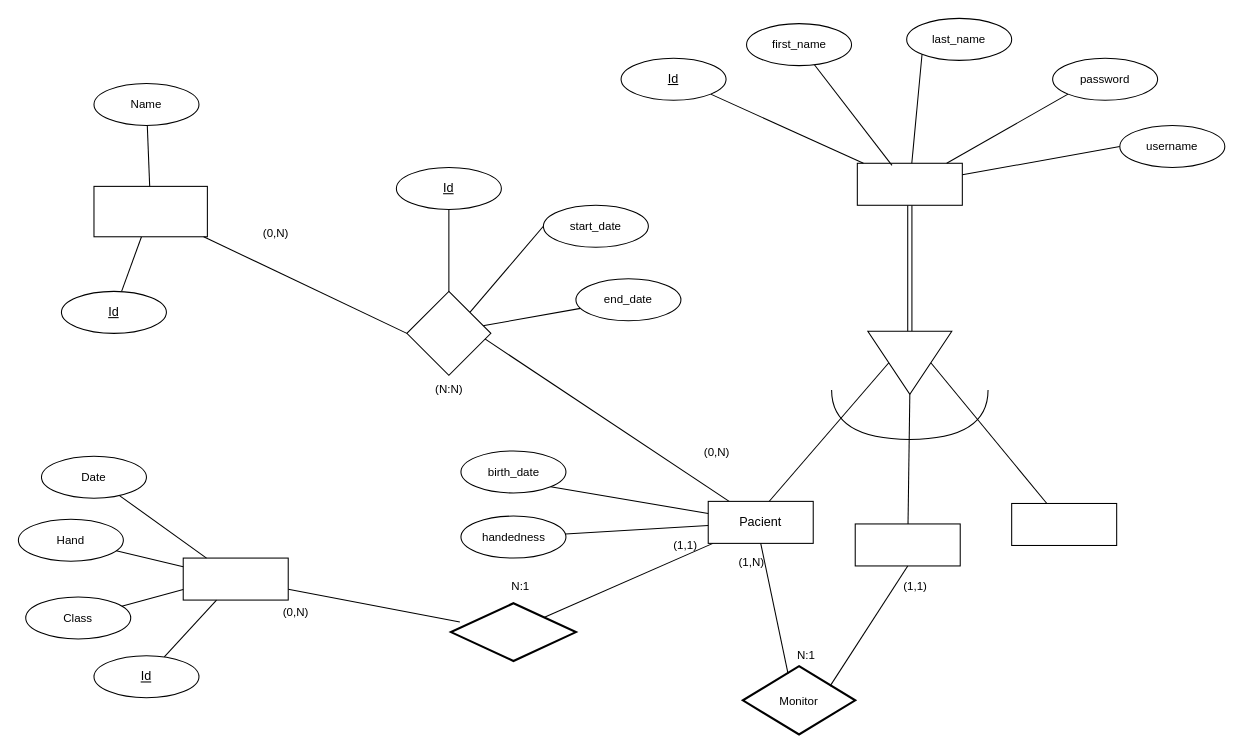
Image size: 1243x754. Some labels were removed from this diagram. Here are the shapes that lost their labels. From the top down, the centre of each, then its label:
the point at 909,183: User
the point at 150,211: Medicine
the point at 448,332: Is assigned
the point at 1064,523: Admin
the point at 907,544: Doctor
the point at 235,578: Video
the point at 512,632: Has
